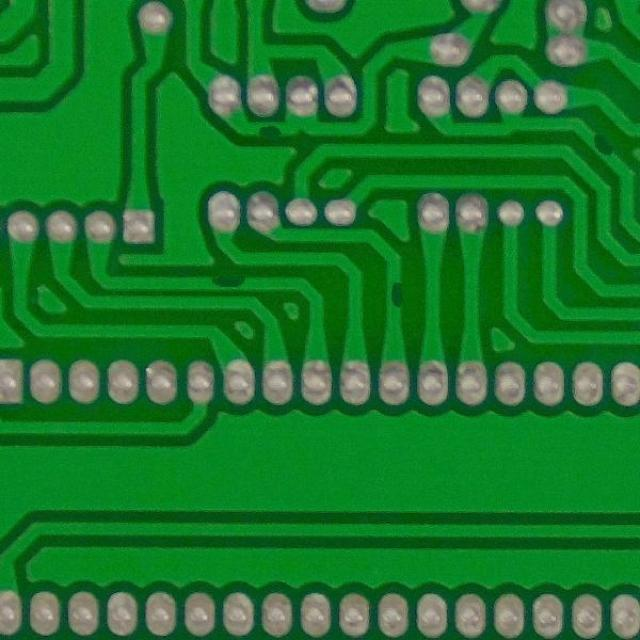MouseBite: (582, 128, 624, 166), (200, 272, 260, 294), (248, 117, 290, 142), (382, 275, 407, 314)
